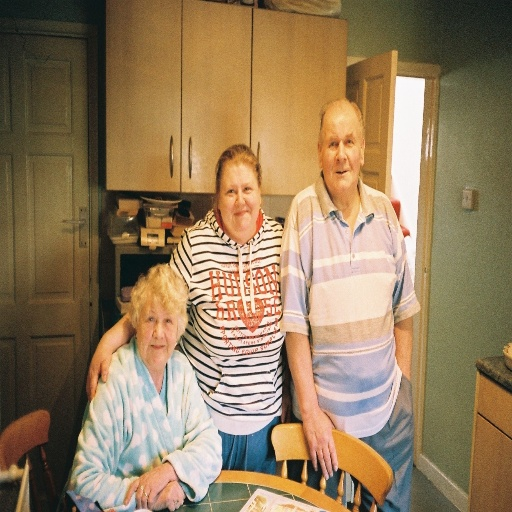hand: (299, 388, 339, 476), (123, 462, 174, 511), (85, 334, 114, 401), (151, 478, 185, 511)
